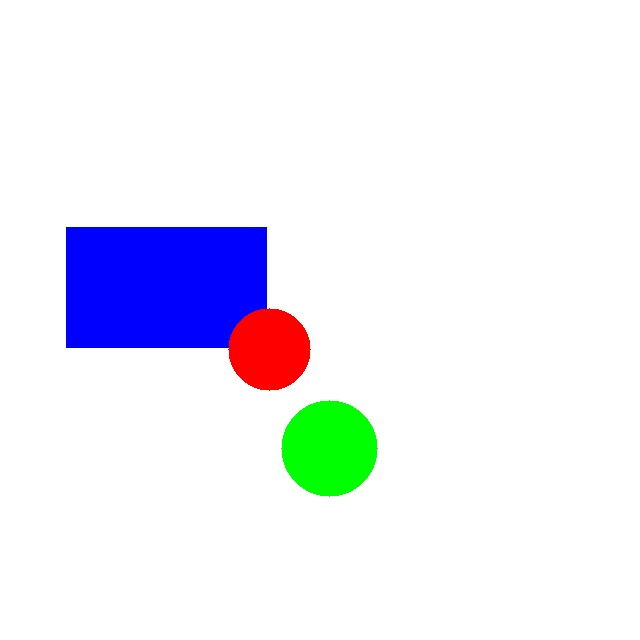cartao: (66, 227, 266, 347)
rosca_externa: (281, 400, 377, 496)
rosca_interna: (228, 308, 310, 390)
